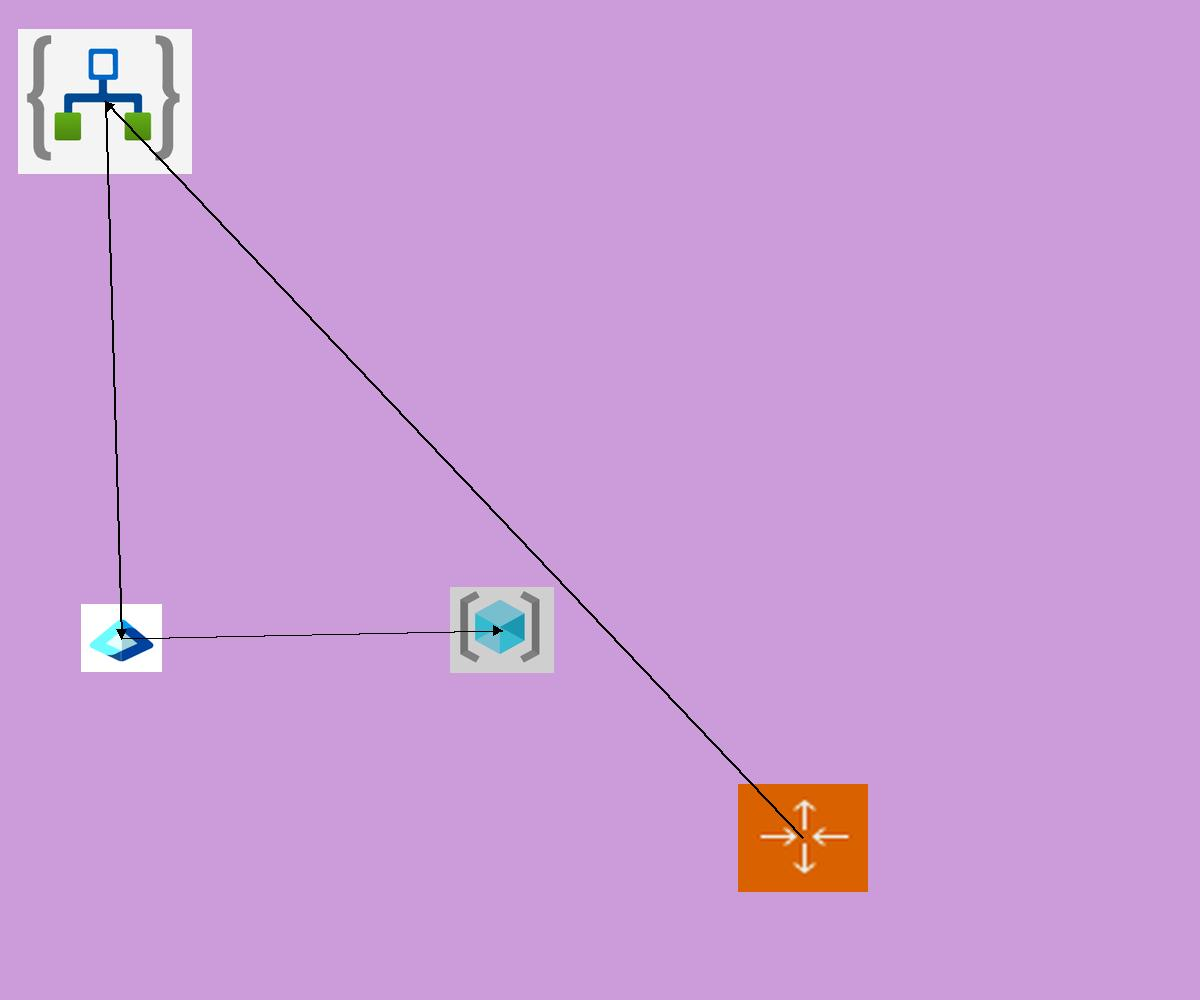AWS-Scaling-group: (738, 784, 868, 892)
Azure_integration-204-Logic-Apps: (18, 29, 192, 174)
Azure_microsoft_entra: (81, 604, 162, 672)
Azure_resource_group: (450, 587, 554, 673)
